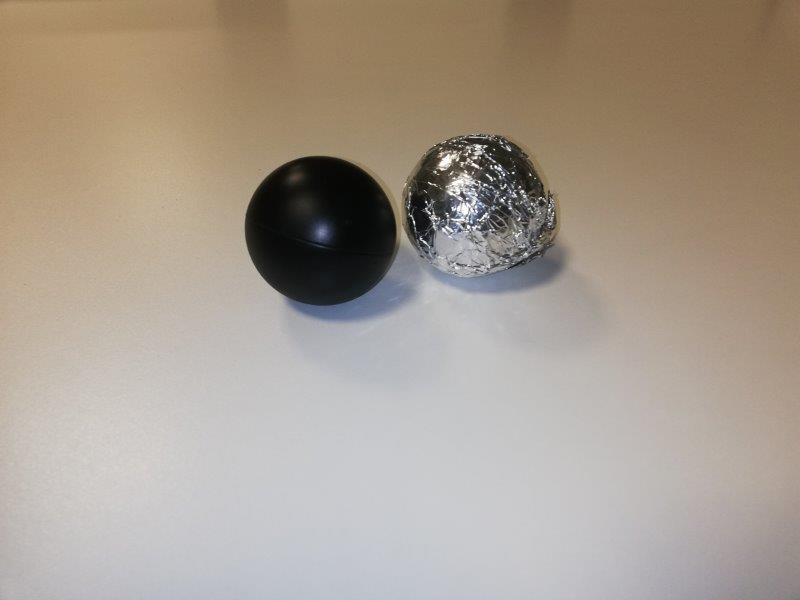bianca: (401, 131, 559, 277)
nera: (242, 152, 399, 306)
